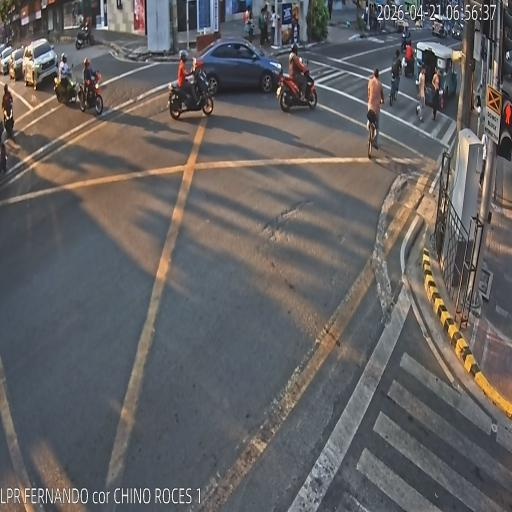Car: (194, 34, 282, 118), (21, 39, 60, 90), (12, 49, 24, 80), (1, 48, 12, 72)
Motor: (164, 46, 222, 134), (277, 43, 316, 124), (77, 59, 103, 122), (0, 89, 26, 152), (57, 55, 73, 108), (402, 32, 416, 82)
